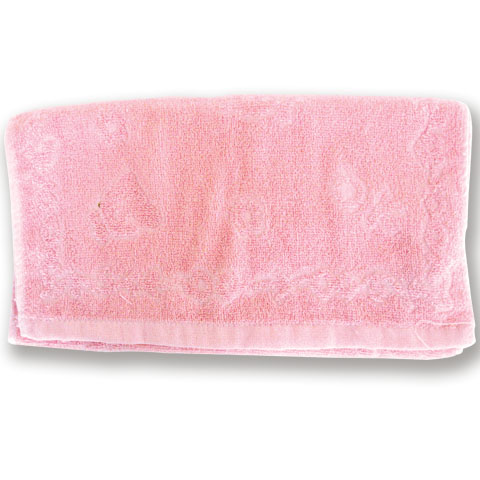flexible: (5, 99, 479, 366)
